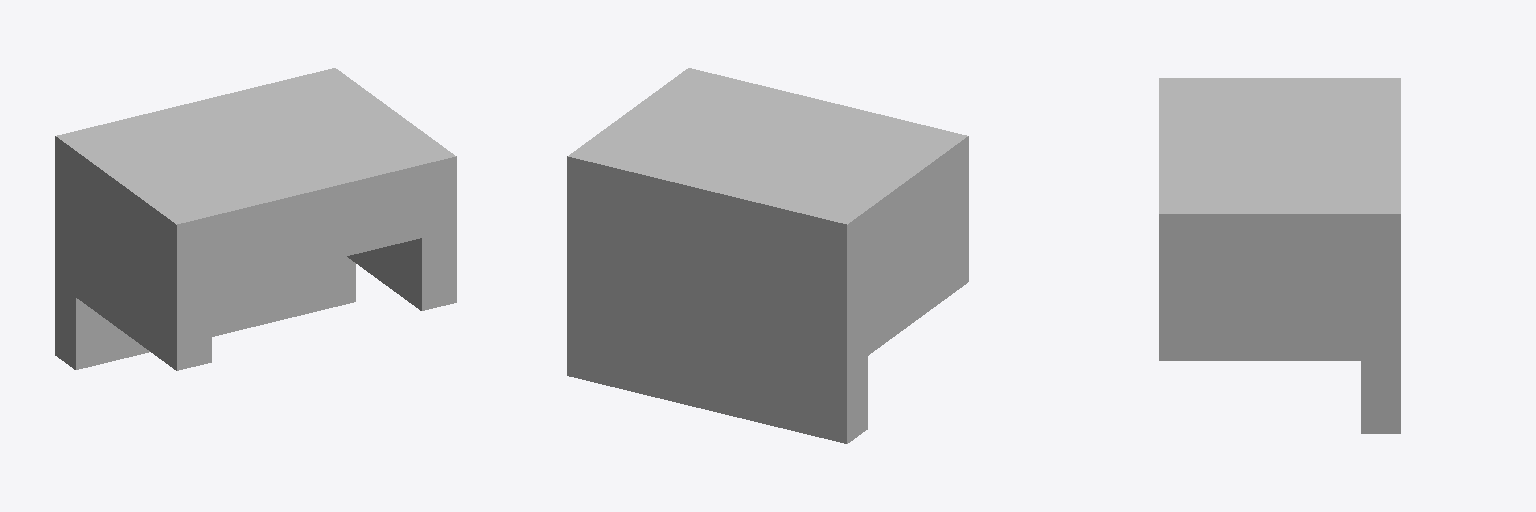
The model's file is couch11.obj.
3 renders of one model, left to right at view 1: azimuth 30°, elevation 25°; view 2: azimuth 150°, elevation 25°; view 3: azimuth 270°, elevation 25°, orthographic.
Visible parts, largest first — view 1: Cube.001_Cube; view 2: Cube.001_Cube; view 3: Cube.001_Cube.
Part boxes in pixels (bbox=[...]): Cube.001_Cube: bbox=[55, 68, 456, 370]; Cube.001_Cube: bbox=[567, 68, 968, 443]; Cube.001_Cube: bbox=[1159, 78, 1400, 433].
Size of the model in its own units: 40 by 30 by 30.